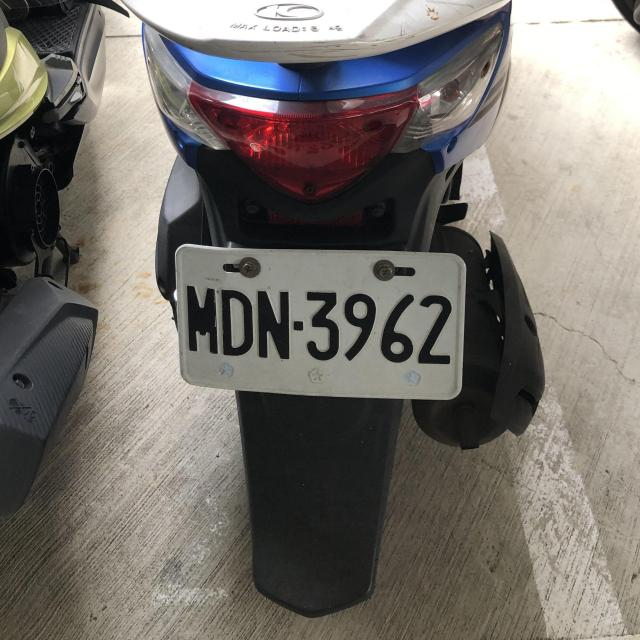W: (171, 245, 465, 399)
